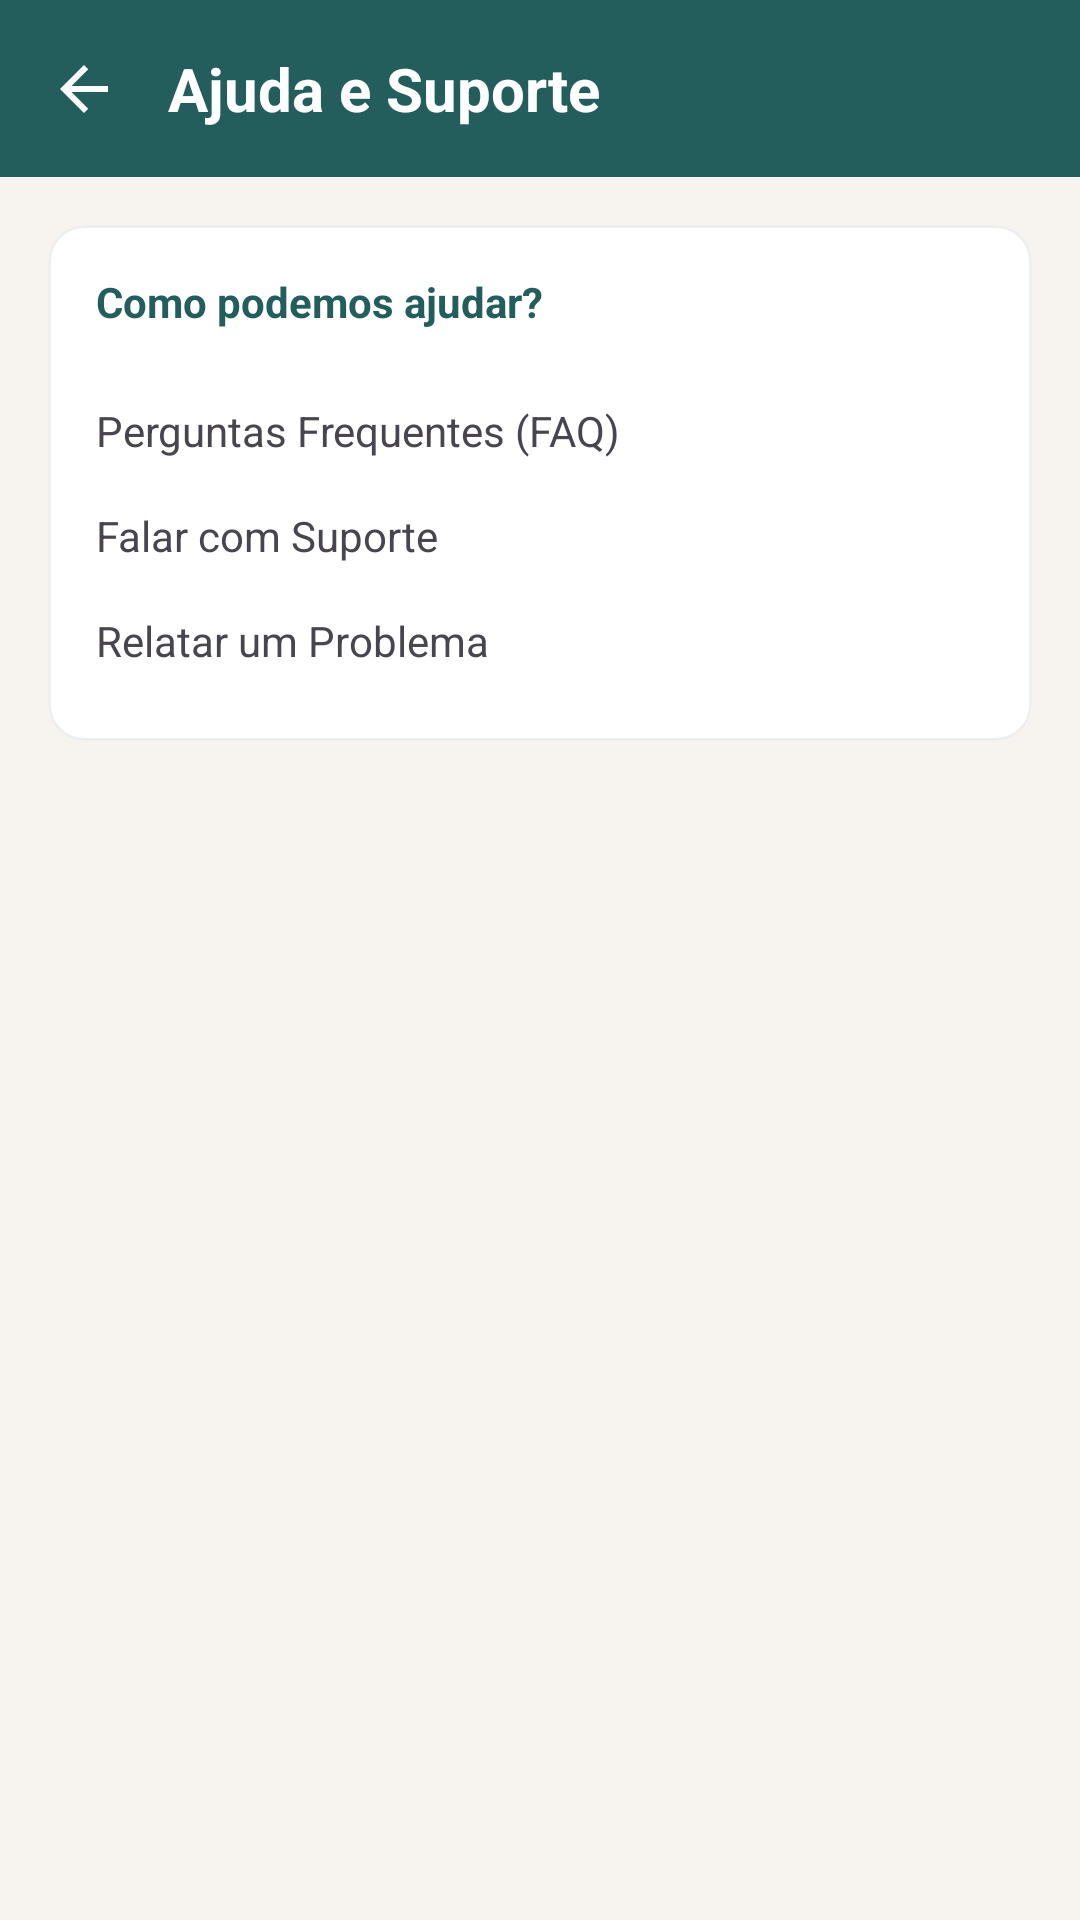

Point at icon controls on the screen. Image size 1080 x 1920, points as (x,y).
Voltar: (84,89)
